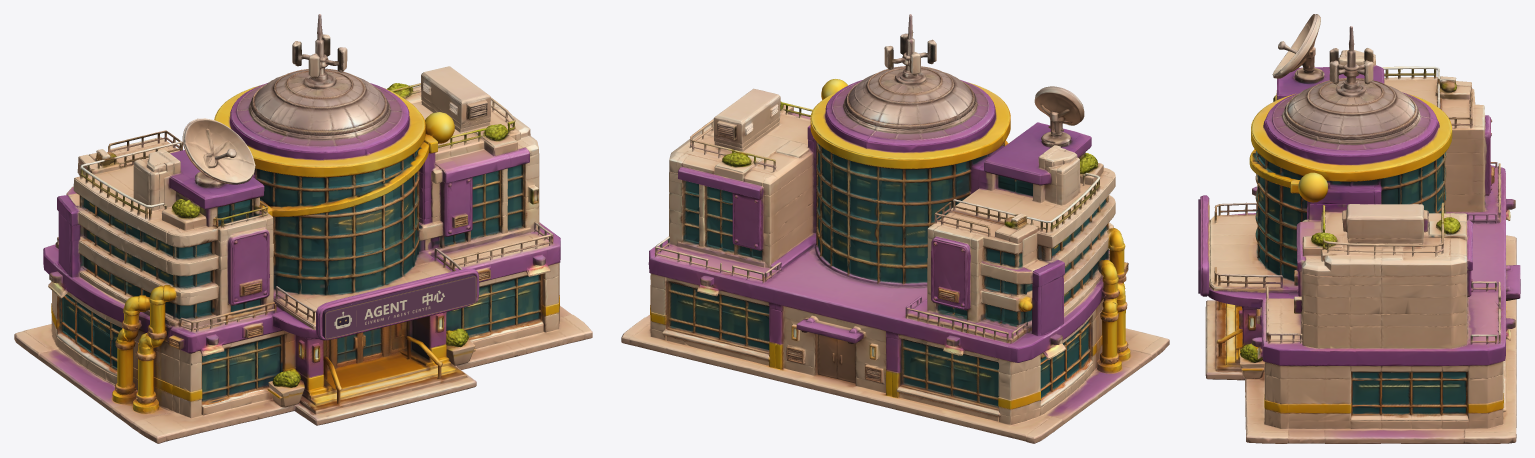
Rendered from agent-center-detail.glb.
3 renders of one model, left to right at view 1: azimuth 30°, elevation 25°; view 2: azimuth 150°, elevation 25°; view 3: azimuth 270°, elevation 25°, orthographic. The views are drawn at different scales.
Visible parts, largest first — view 1: object 1, Agent_Center_Nameplate; view 2: object 1; view 3: object 1.
Boxes of the visible parts, left/top/right/bottom form: object 1: left=14, top=14, right=592, bottom=443; Agent_Center_Nameplate: left=322, top=274, right=476, bottom=339; object 1: left=621, top=14, right=1169, bottom=443; object 1: left=1200, top=14, right=1520, bottom=443.
Bounding box in the file's own units: 7 × 5.11 × 4.68.
2 materials, 2 textured.
